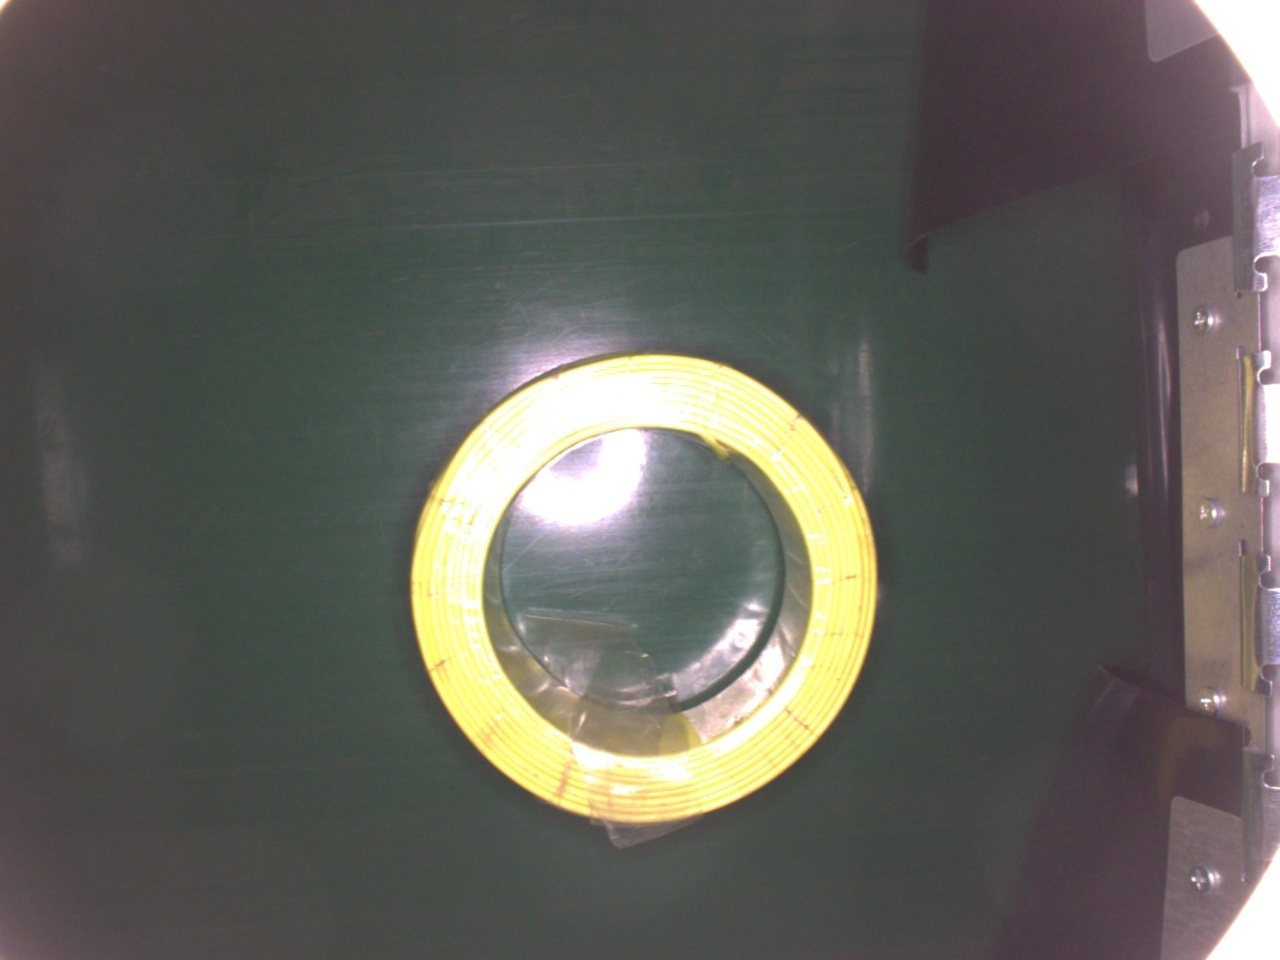yellow: (408, 348, 879, 826)
